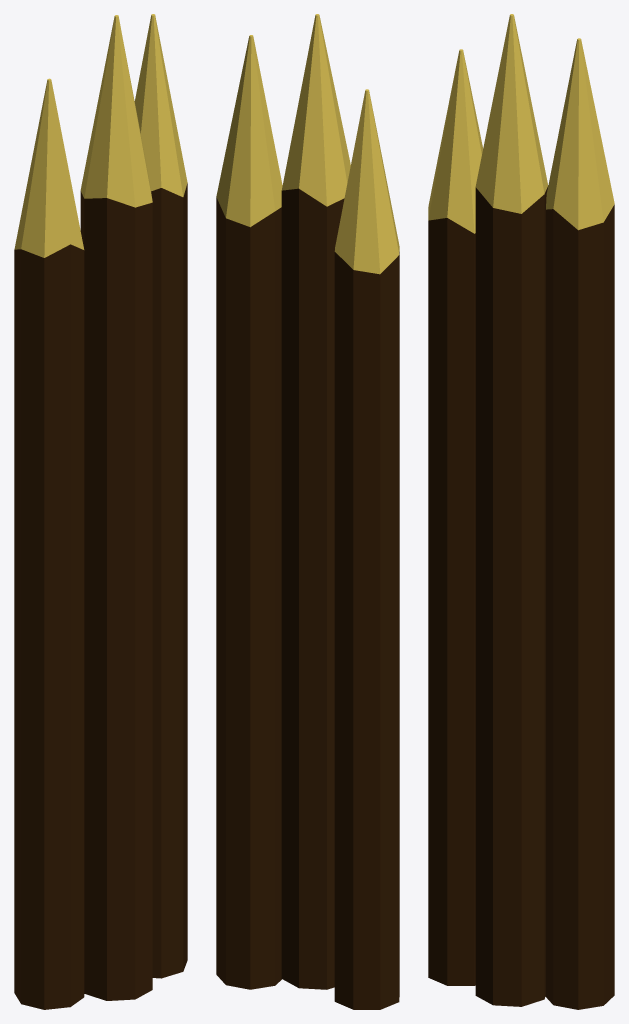
The model's file is palisade_part.fbx.
3 renders of one model, left to right at view 1: azimuth 30°, elevation 25°; view 2: azimuth 150°, elevation 25°; view 3: azimuth 330°, elevation 25°, orthographic.
Parts seen in each view (by area): view 1: Cylinder, Cylinder.002, Cylinder.001; view 2: Cylinder.001, Cylinder.002, Cylinder; view 3: Cylinder, Cylinder.001, Cylinder.002.
Part boxes in pixels (box(x1,y1,x2,y2)): Cylinder: box(80, 15, 152, 1000); Cylinder.002: box(14, 78, 84, 1009); Cylinder.001: box(134, 14, 187, 978); Cylinder.001: box(216, 35, 282, 989); Cylinder.002: box(334, 89, 399, 1009); Cylinder: box(281, 14, 350, 989); Cylinder: box(475, 14, 548, 1006); Cylinder.001: box(545, 38, 614, 1009); Cylinder.002: box(428, 49, 483, 985).
Size of the model in its own units: 59.05 by 322 by 30.51.
